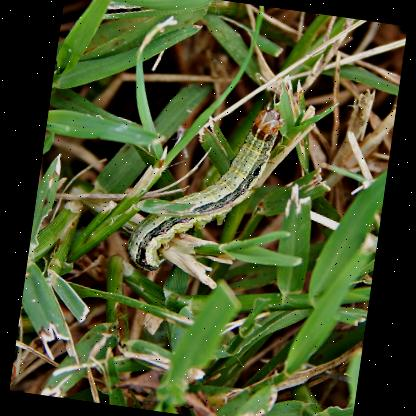Fall Armyworm Larvae: (116, 84, 289, 294)
